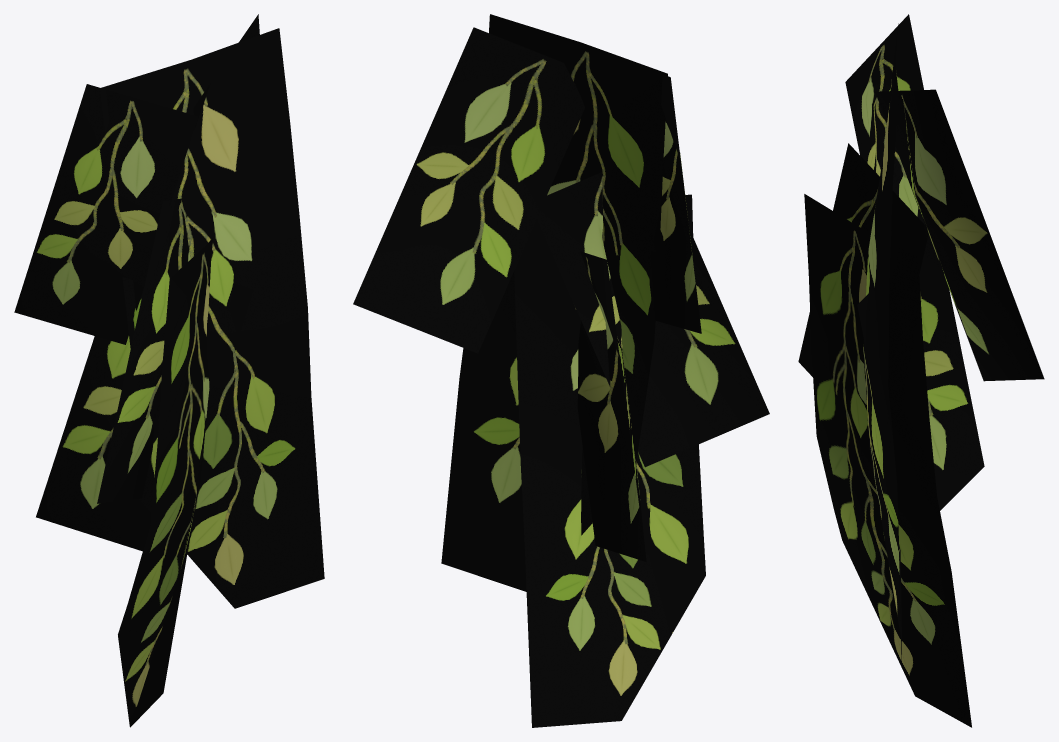
The model's file is Ivy_1.fbx.
The picture shows the model from 3 angles, left to right: view 1: azimuth 30°, elevation 25°; view 2: azimuth 150°, elevation 25°; view 3: azimuth 270°, elevation 25°; orthographic projection.
Visible parts, largest first — view 1: Ivy.001; view 2: Ivy.001; view 3: Ivy.001.
Boxes of the visible parts, box(x1,y1,x2,y2) form: Ivy.001: box(14, 14, 324, 727); Ivy.001: box(353, 14, 769, 727); Ivy.001: box(798, 14, 1044, 727).
Size of the model in its own units: 58.75 by 124 by 41.03.
